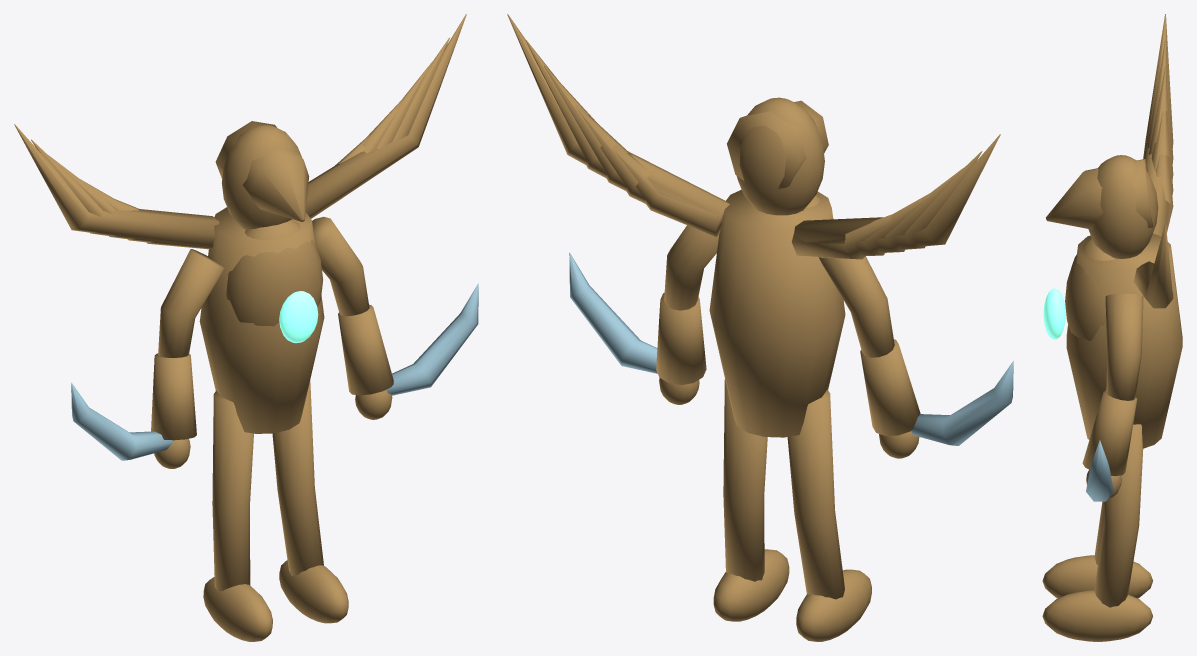
Rendered from gale-harrier.glb.
3 views of the same model, side by side, from view 1: azimuth 30°, elevation 25°; view 2: azimuth 150°, elevation 25°; view 3: azimuth 270°, elevation 25° (orthographic). The views are drawn at different scales.
Parts seen in each view (by area): view 1: Armored leg, Upper arm, Upper arm.001; view 2: Armored leg, Upper arm, Upper arm.001; view 3: Armored leg, Upper arm.001.
Boxes of the visible parts, x1,y1,x2,y2 form: Armored leg: (14, 14, 466, 641); Upper arm: (71, 249, 224, 468); Upper arm.001: (312, 216, 478, 419); Armored leg: (507, 14, 1000, 641); Upper arm: (819, 256, 1013, 458); Upper arm.001: (569, 225, 719, 404); Armored leg: (1042, 14, 1182, 641); Upper arm.001: (1082, 293, 1143, 501).
Size of the model in its own units: 2.42 by 2.71 by 0.6827.
